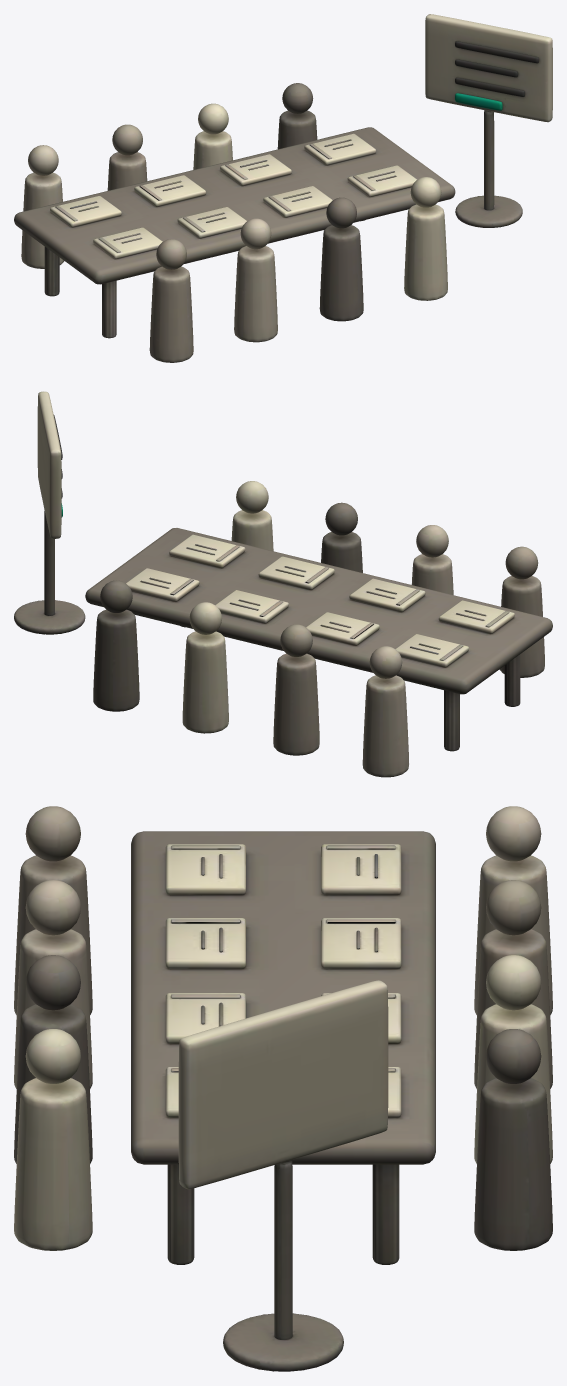
File: table.glb
3 views of the same model, one above another, from view 1: azimuth 30°, elevation 25°; view 2: azimuth 150°, elevation 25°; view 3: azimuth 270°, elevation 25° (orthographic). The views are drawn at different scales.
Visible parts, largest first — view 1: Table_mesh, Board_mesh, Figure_4_mesh, Figure_2_mesh, Figure_1_mesh, Figure_3_mesh, Figure_5_mesh, Figure_7_mesh, Figure_8_mesh, Figure_6_mesh; view 2: Table_mesh, Board_mesh, Figure_6_mesh, Figure_8_mesh, Figure_7_mesh, Figure_5_mesh, Figure_1_mesh, Figure_4_mesh, Figure_2_mesh, Figure_3_mesh; view 3: Table_mesh, Board_mesh, Figure_4_mesh, Figure_8_mesh, Figure_6_mesh, Figure_2_mesh, Figure_3_mesh, Figure_7_mesh, Figure_5_mesh, Figure_1_mesh.
Boxes of the visible parts, x1=… form: Table_mesh: x1=14, y1=127, x2=455, y2=338; Board_mesh: x1=425, y1=14, x2=552, y2=227; Figure_4_mesh: x1=404, y1=177, x2=447, y2=300; Figure_2_mesh: x1=234, y1=218, x2=277, y2=342; Figure_1_mesh: x1=149, y1=239, x2=193, y2=362; Figure_3_mesh: x1=319, y1=197, x2=363, y2=321; Figure_5_mesh: x1=21, y1=145, x2=64, y2=268; Figure_7_mesh: x1=193, y1=103, x2=232, y2=169; Figure_8_mesh: x1=277, y1=83, x2=317, y2=149; Figure_6_mesh: x1=107, y1=124, x2=147, y2=190; Table_mesh: x1=85, y1=528, x2=552, y2=751; Board_mesh: x1=14, y1=391, x2=85, y2=634; Figure_6_mesh: x1=273, y1=624, x2=319, y2=755; Figure_8_mesh: x1=93, y1=580, x2=139, y2=711; Figure_7_mesh: x1=182, y1=602, x2=228, y2=733; Figure_5_mesh: x1=362, y1=646, x2=408, y2=777; Figure_1_mesh: x1=499, y1=546, x2=544, y2=677; Figure_4_mesh: x1=231, y1=481, x2=273, y2=551; Figure_2_mesh: x1=411, y1=525, x2=453, y2=594; Figure_3_mesh: x1=321, y1=502, x2=362, y2=572; Table_mesh: x1=131, y1=831, x2=435, y2=1264; Board_mesh: x1=178, y1=980, x2=388, y2=1371; Figure_4_mesh: x1=14, y1=1029, x2=92, y2=1250; Figure_8_mesh: x1=474, y1=1029, x2=552, y2=1250; Figure_6_mesh: x1=474, y1=880, x2=552, y2=1088; Figure_2_mesh: x1=14, y1=880, x2=92, y2=1088; Figure_3_mesh: x1=14, y1=955, x2=92, y2=1163; Figure_7_mesh: x1=474, y1=955, x2=552, y2=1163; Figure_5_mesh: x1=474, y1=806, x2=552, y2=1014; Figure_1_mesh: x1=14, y1=806, x2=92, y2=1014.
Size of the model in its own units: 3.53 by 1.35 by 1.94.
1 material, 1 textured.
